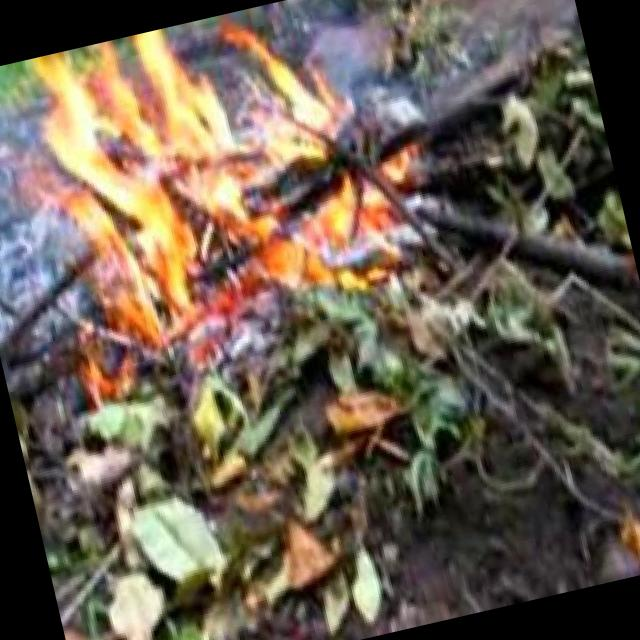Fire: (0, 0, 455, 421)
